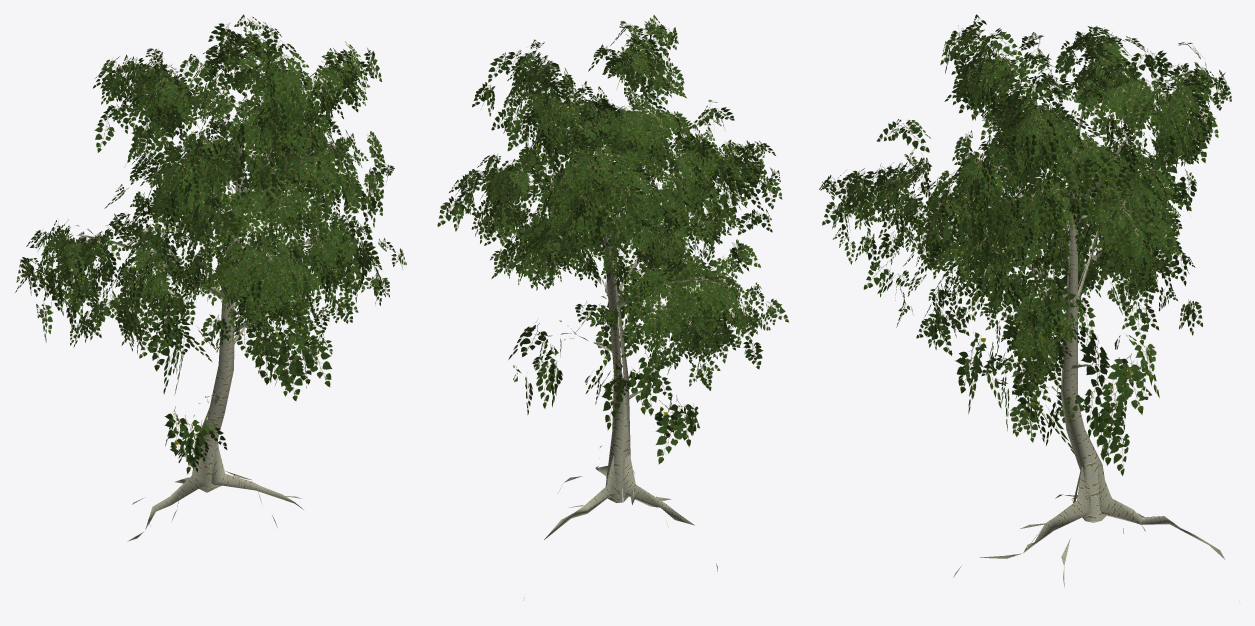
Rendered from birch_0_lod0_highpoly_yoffset.glb.
The picture shows the model from 3 angles, left to right: view 1: azimuth 30°, elevation 25°; view 2: azimuth 150°, elevation 25°; view 3: azimuth 270°, elevation 25°; orthographic projection. The views are drawn at different scales.
Parts seen in each view (by area): view 1: Bark; view 2: Bark; view 3: Bark.
Part boxes in pixels (x1,y1,x2,y2): Bark: [15, 14, 406, 541]; Bark: [437, 15, 788, 600]; Bark: [819, 14, 1231, 587].
Size of the model in its own units: 7.55 by 11.23 by 7.04.
Materials: 3 (3 with a texture image).
